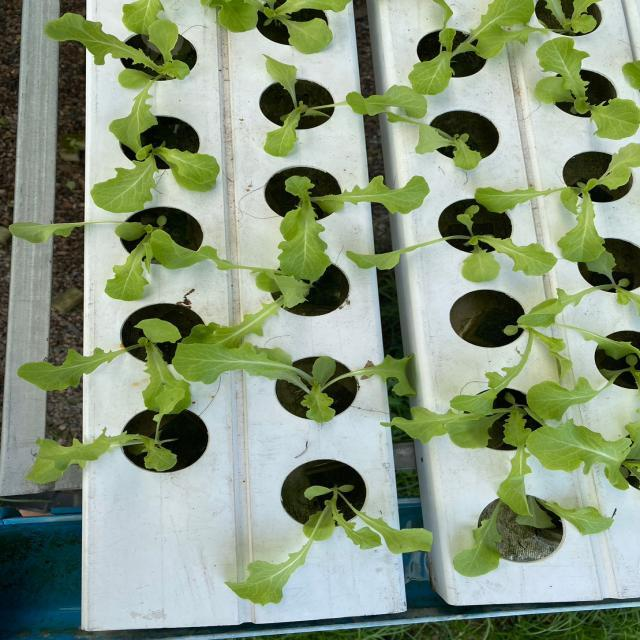Lettuce-Not-Ready-to-Harvest: (231, 479, 434, 610), (35, 0, 202, 136), (375, 360, 568, 472), (473, 138, 640, 267), (170, 339, 419, 421), (3, 211, 216, 304), (451, 473, 618, 586), (355, 203, 557, 286), (277, 171, 433, 278), (18, 313, 192, 408), (191, 242, 346, 347), (26, 392, 189, 483), (253, 56, 389, 157), (101, 110, 220, 221), (350, 85, 494, 168), (533, 33, 640, 141), (407, 0, 527, 93)
